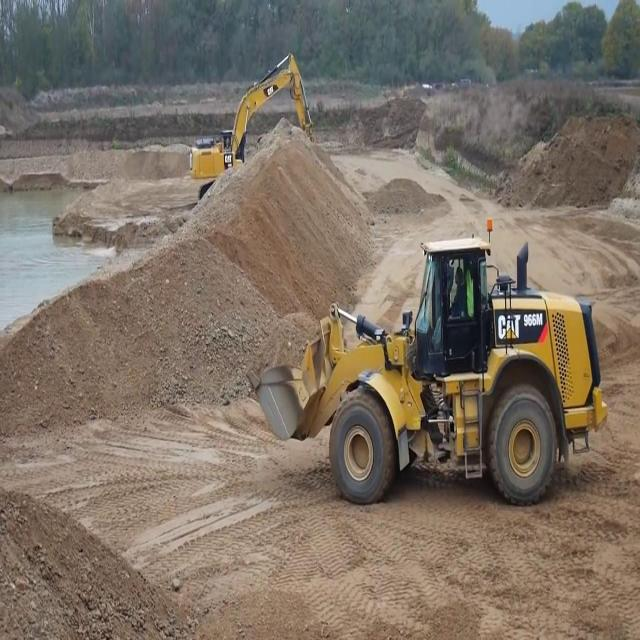Excavator: (188, 51, 314, 202)
Loader: (246, 213, 608, 506)
